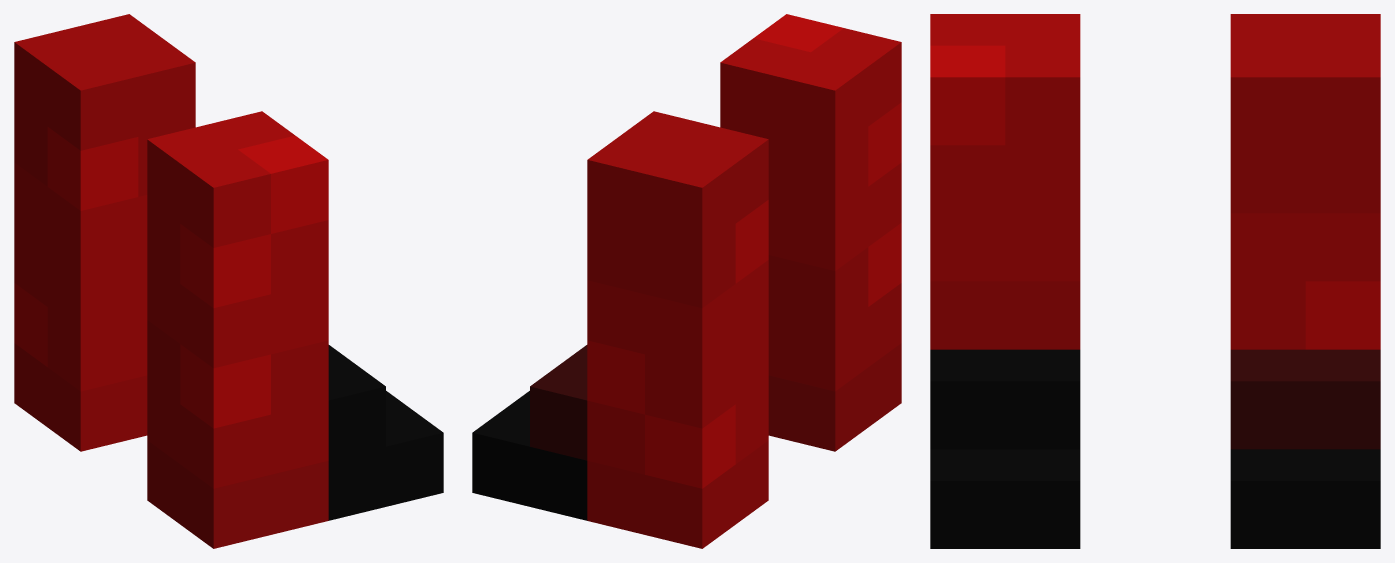
Rendered from king_feet.gltf.
3 renders of one model, left to right at view 1: azimuth 30°, elevation 25°; view 2: azimuth 150°, elevation 25°; view 3: azimuth 270°, elevation 25°, orthographic. The views are drawn at different scales.
Visible parts, largest first — view 1: Layer.1; view 2: Layer.1; view 3: Layer.1.
Part boxes in pixels (x1,y1,x2,y2): Layer.1: [14, 14, 443, 548]; Layer.1: [472, 14, 901, 548]; Layer.1: [930, 14, 1380, 548].
Size of the model in its own units: 4 by 6 by 6.
1 material, 1 textured.
